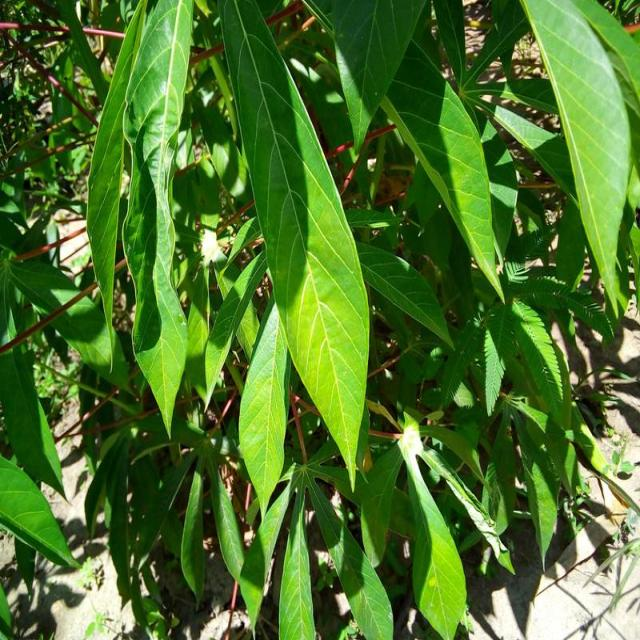cassava leaf: (216, 0, 371, 493), (519, 0, 632, 326), (120, 0, 193, 439)
